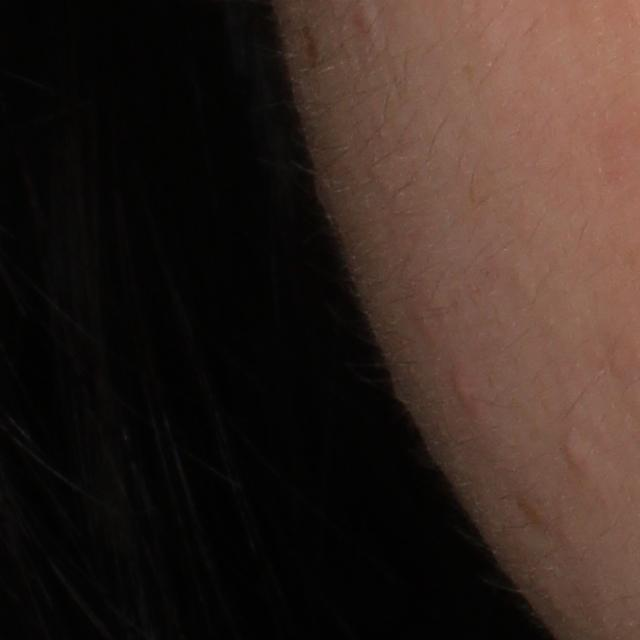comedo: (561, 431, 590, 473)
papule: (451, 367, 478, 409)
